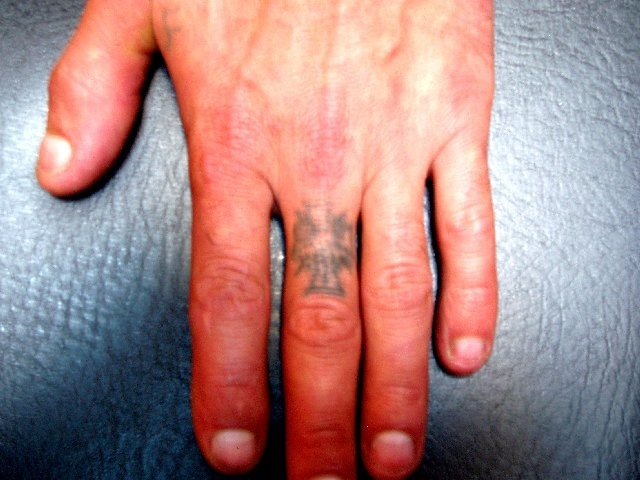tatu9_krest: (294, 193, 353, 292)
